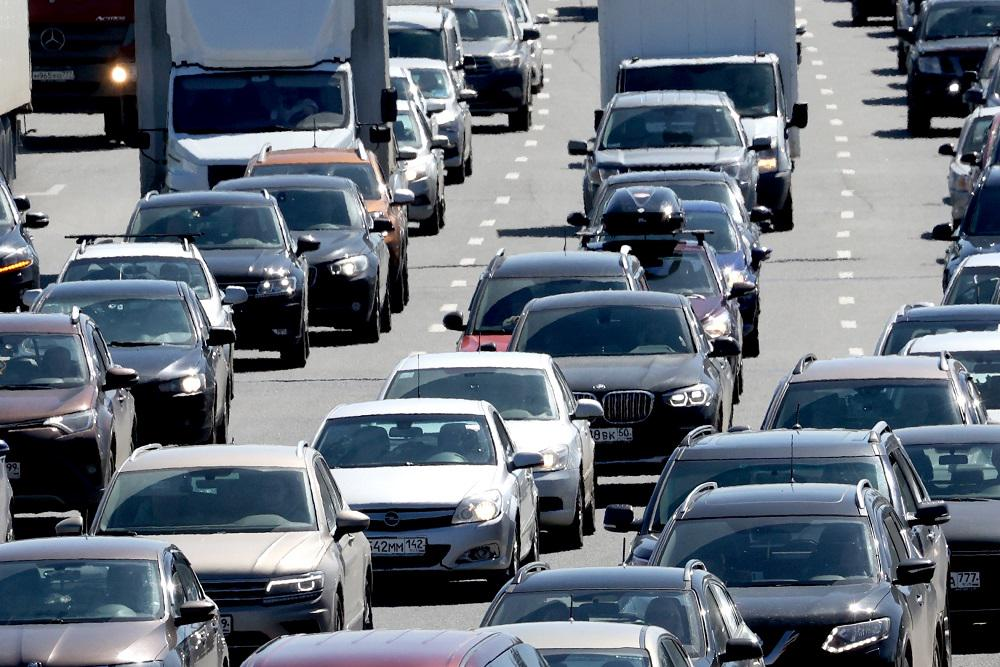Car: (603, 422, 950, 613), (89, 444, 374, 661), (632, 477, 950, 667), (135, 0, 406, 194), (380, 352, 603, 548), (312, 399, 542, 589), (508, 291, 742, 476), (581, 187, 756, 403), (616, 53, 808, 230), (126, 192, 319, 367), (31, 280, 234, 444), (597, 0, 801, 158), (57, 234, 248, 398), (0, 536, 228, 667), (0, 308, 138, 524), (214, 176, 392, 342), (481, 563, 765, 667), (246, 147, 413, 313), (568, 91, 772, 213), (443, 249, 647, 351), (897, 426, 1000, 628), (761, 354, 991, 430), (25, 0, 139, 144), (565, 170, 774, 246), (874, 303, 1000, 424), (682, 201, 771, 358), (895, 0, 1000, 132), (241, 628, 548, 667), (387, 56, 479, 183), (452, 0, 540, 132), (482, 621, 694, 667), (385, 0, 477, 89), (938, 106, 1000, 224), (393, 101, 448, 234), (942, 167, 1000, 290), (0, 177, 48, 312), (0, 0, 32, 183), (506, 0, 552, 94), (388, 64, 445, 135), (942, 251, 1000, 306), (962, 113, 1000, 195), (896, 0, 923, 73), (964, 40, 1000, 89), (0, 440, 16, 543), (967, 59, 1000, 107), (850, 0, 897, 25)
